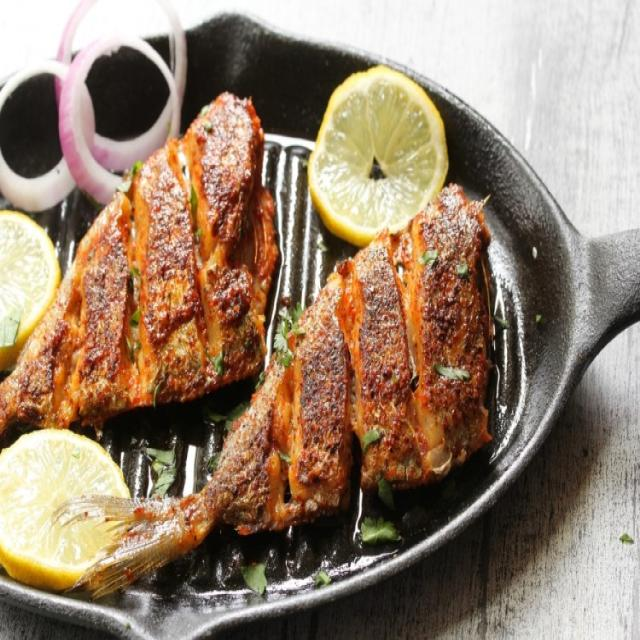Peixe: (52, 180, 496, 600), (0, 88, 280, 438)
